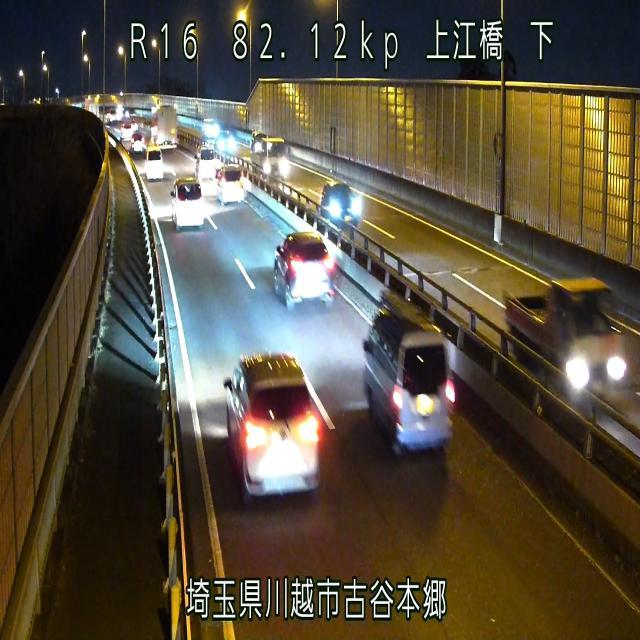Car: (221, 349, 334, 506), (271, 229, 337, 309)
MiniBus: (361, 299, 456, 456)
Pickup: (501, 275, 630, 403)
